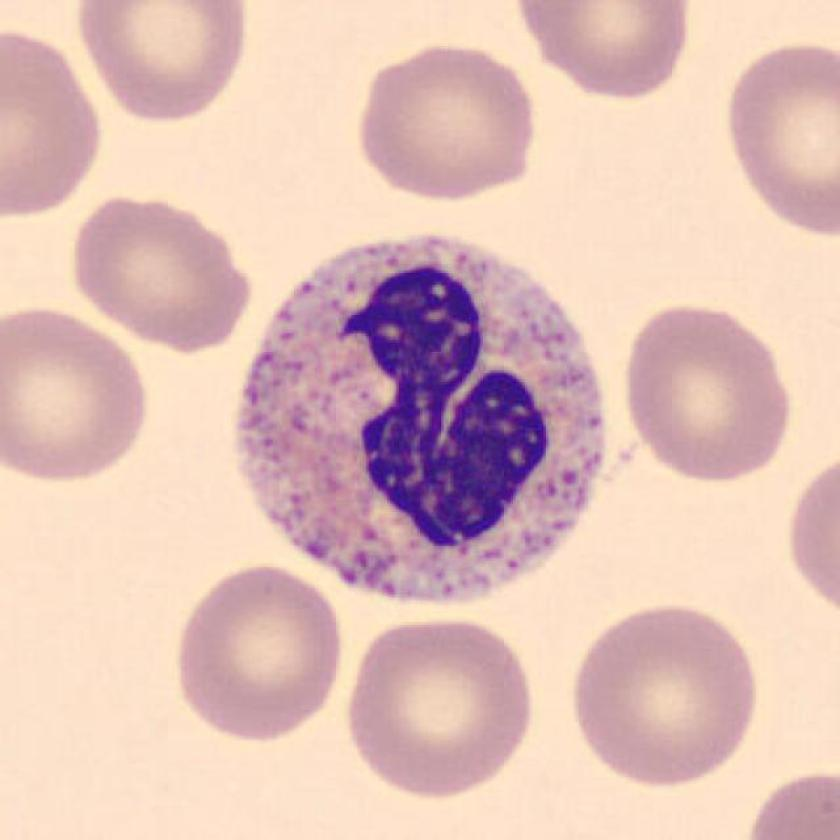neutrophil: (236, 239, 603, 601)
